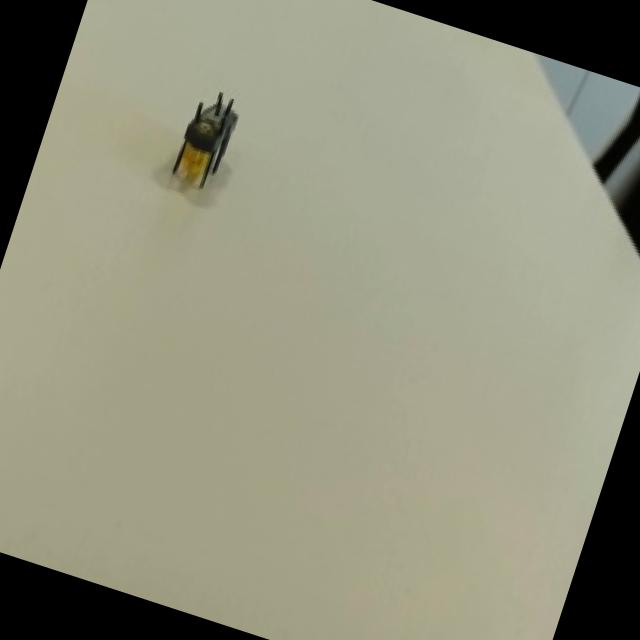6_NanoBug_GrisOscuro: (134, 55, 288, 232)
